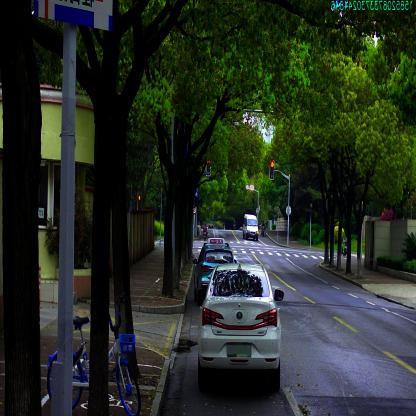traffic-light: (270, 160, 274, 179), (207, 159, 210, 176)
